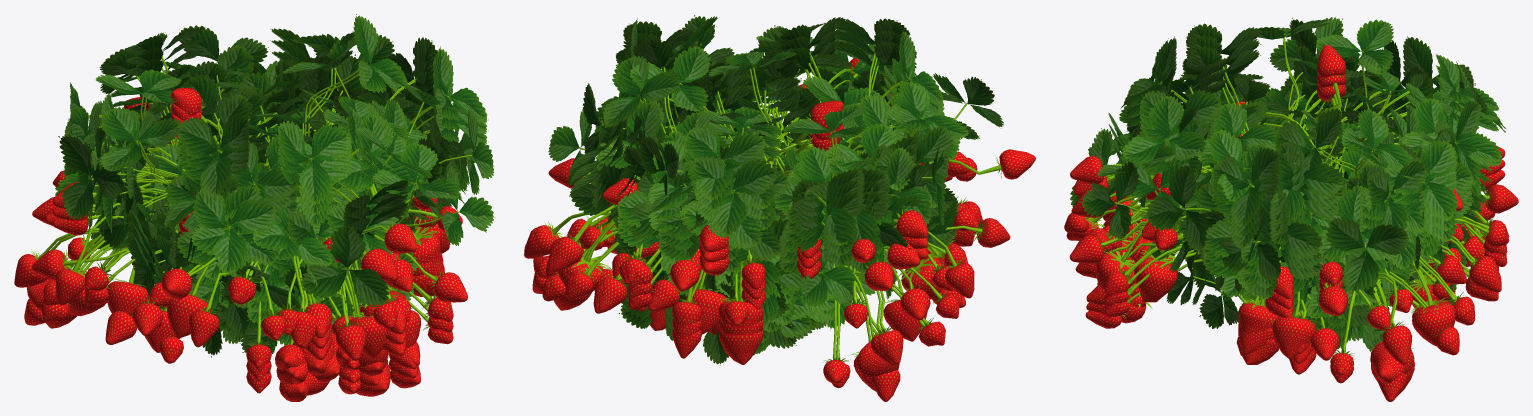
Rendered from strawberry_plants_all.obj.
3 renders of one model, left to right at view 1: azimuth 30°, elevation 25°; view 2: azimuth 150°, elevation 25°; view 3: azimuth 270°, elevation 25°, orthographic. The views are drawn at different scales.
Visible parts, largest first — view 1: Strawberry_008, Strawberry_002, Strawberry_007, Strawberry_004, Strawberry_001, Strawberry_003, Strawberry_005, Strawberry_006; view 2: Strawberry_004, Strawberry_002, Strawberry_008, Strawberry_007, Strawberry_003, Strawberry_001, Strawberry_006, Strawberry_005; view 3: Strawberry_007, Strawberry_008, Strawberry_002, Strawberry_006, Strawberry_004, Strawberry_001, Strawberry_003, Strawberry_005.
Boxes of the visible parts, x1,y1,x2,y2 form: Strawberry_008: (32,31,495,360); Strawberry_002: (32,25,450,363); Strawberry_007: (52,26,488,369); Strawberry_004: (14,14,430,347); Strawberry_001: (52,38,488,385); Strawberry_003: (52,49,488,401); Strawberry_005: (52,28,488,384); Strawberry_006: (19,15,438,348); Strawberry_004: (533,26,970,401); Strawberry_002: (548,22,1035,348); Strawberry_008: (569,15,1003,342); Strawberry_007: (569,17,958,325); Strawberry_003: (569,40,956,364); Strawberry_001: (569,29,957,353); Strawberry_006: (524,27,967,383); Strawberry_005: (569,18,958,355); Strawberry_007: (1076,23,1505,351); Strawberry_008: (1064,38,1518,328); Strawberry_002: (1114,17,1482,360); Strawberry_006: (1073,22,1509,401); Strawberry_004: (1073,19,1509,383); Strawberry_001: (1079,34,1507,363); Strawberry_003: (1075,45,1507,374); Strawberry_005: (1086,25,1506,353).
Size of the model in its own units: 0.5393 by 0.3362 by 0.5318.
Materials: 5 (5 with a texture image).
